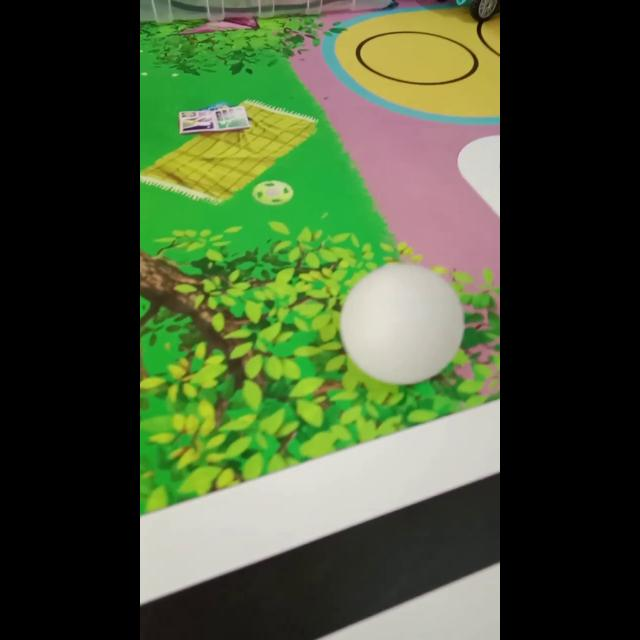white ball: (339, 261, 465, 385)
